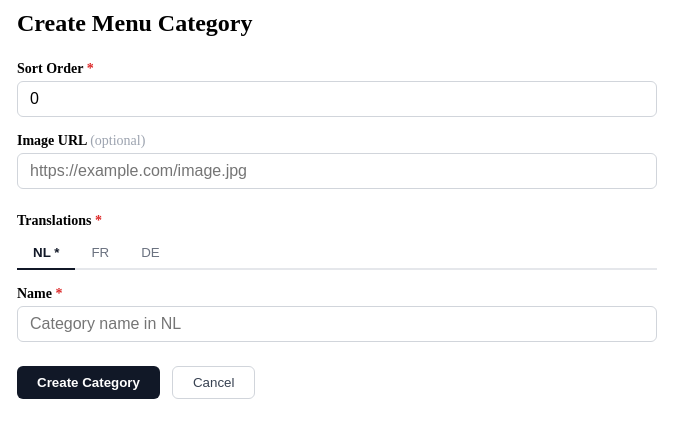
Test case: MenuCategoryCreate › shows validation error when primary-locale name is empty
Check: the field labelled "Name *" is shown, box 17,306 -> 657,342
Click the submit button without entering a name
Click the button "Create Category" at x=88, y=383, box 17,366 -> 160,399
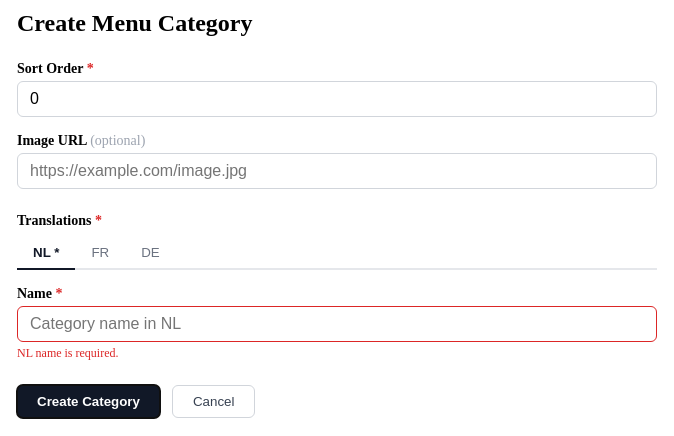
Check: the text "NL name is required." is shown, box 17,346 -> 118,360
